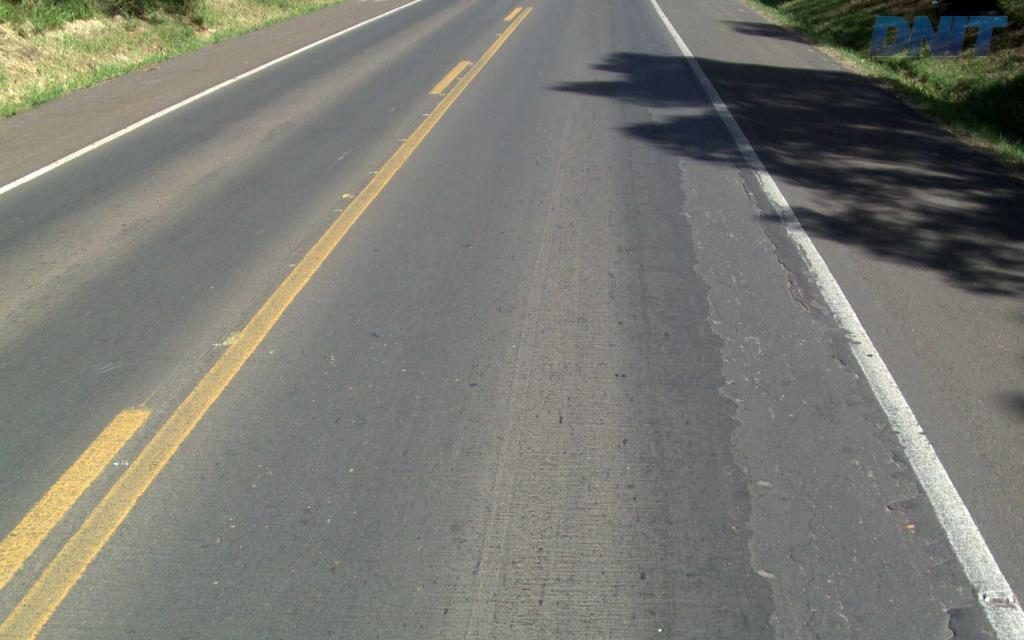pothole: (669, 133, 996, 638)
